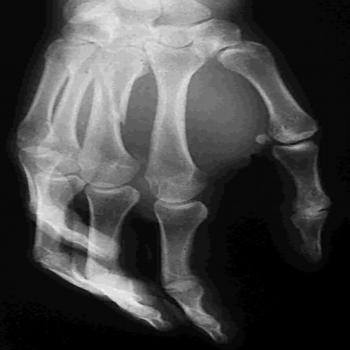Fracture: (93, 78, 136, 130)
